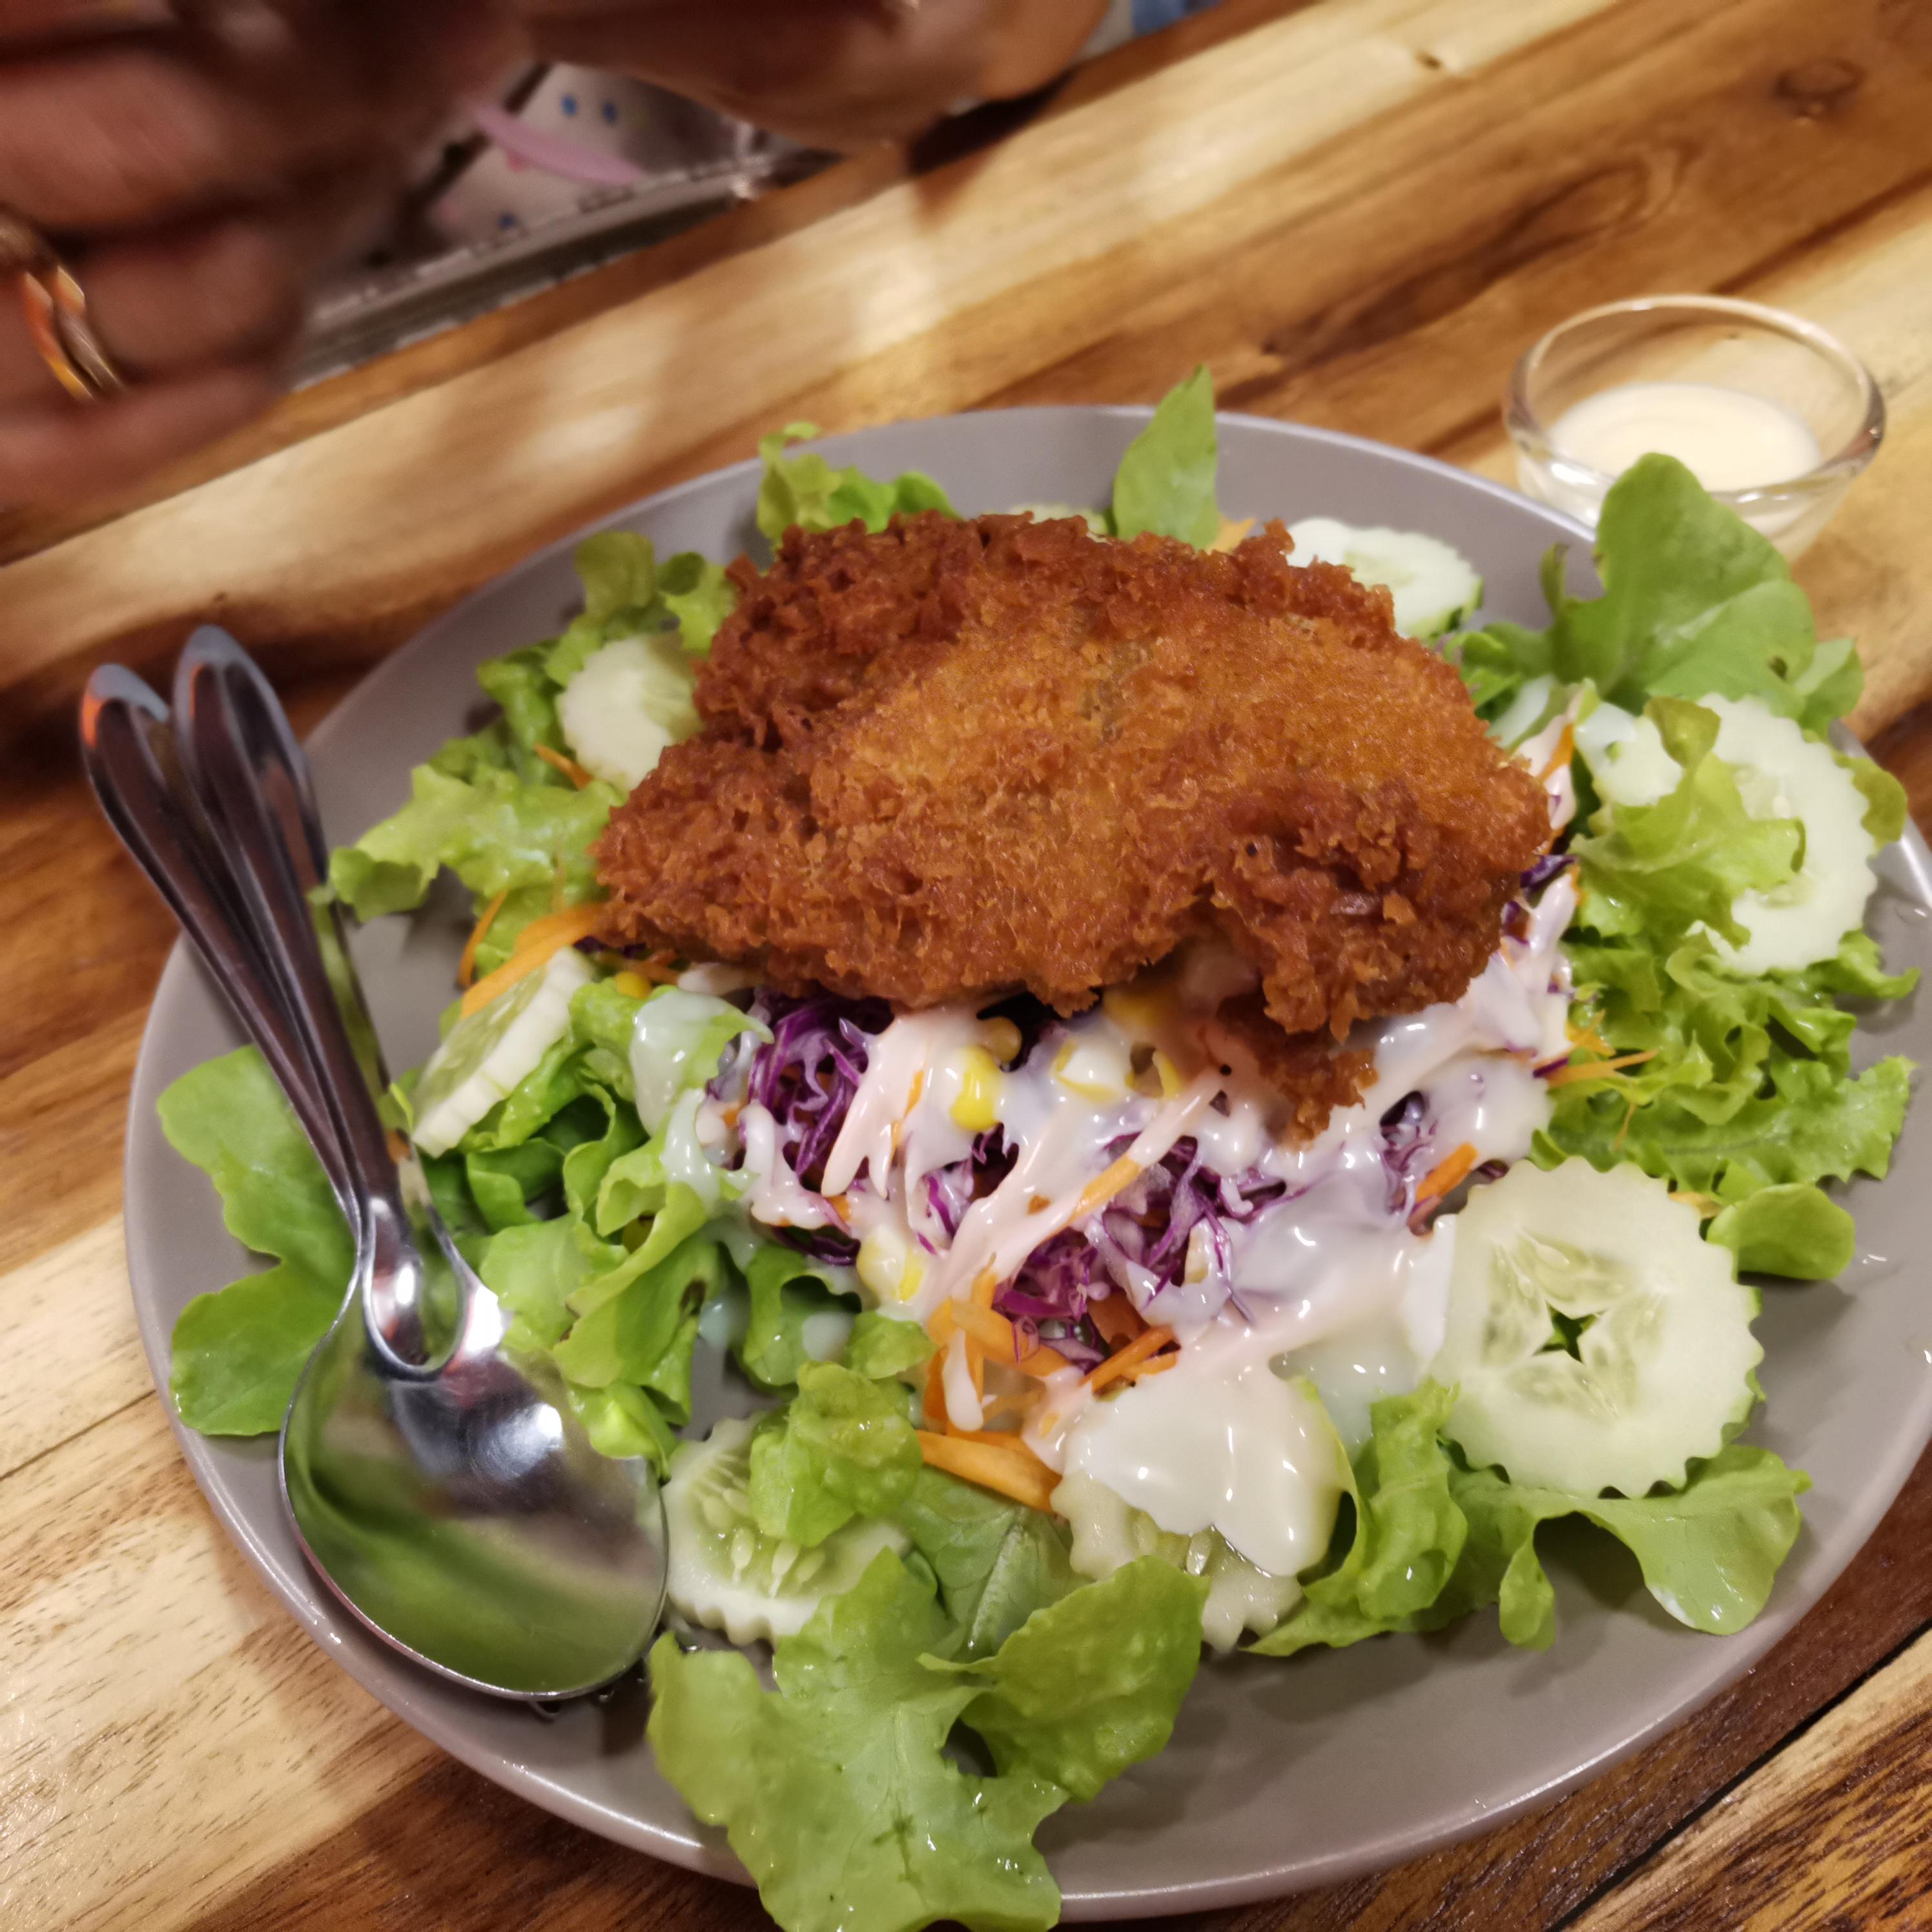meat: (584, 527, 1557, 1040)
vegetable: (315, 501, 1828, 1727)
